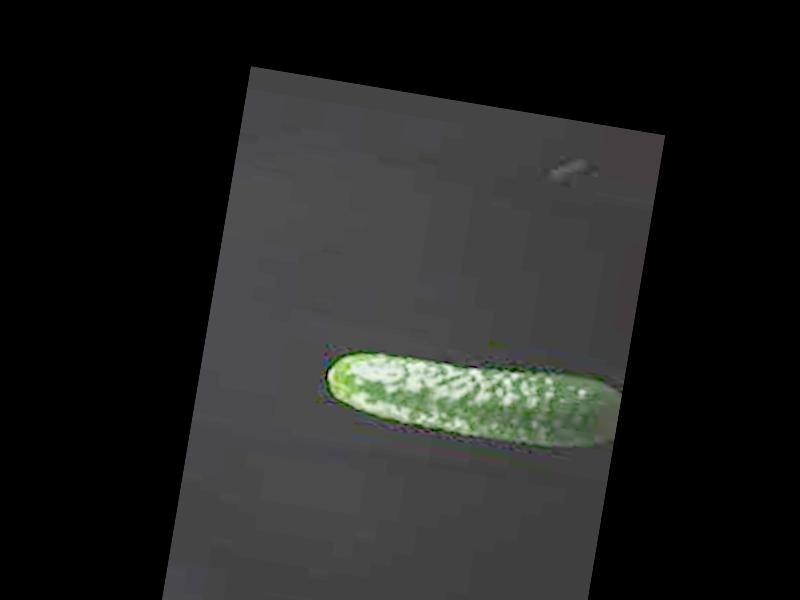Cucumber: (320, 335, 624, 459)
